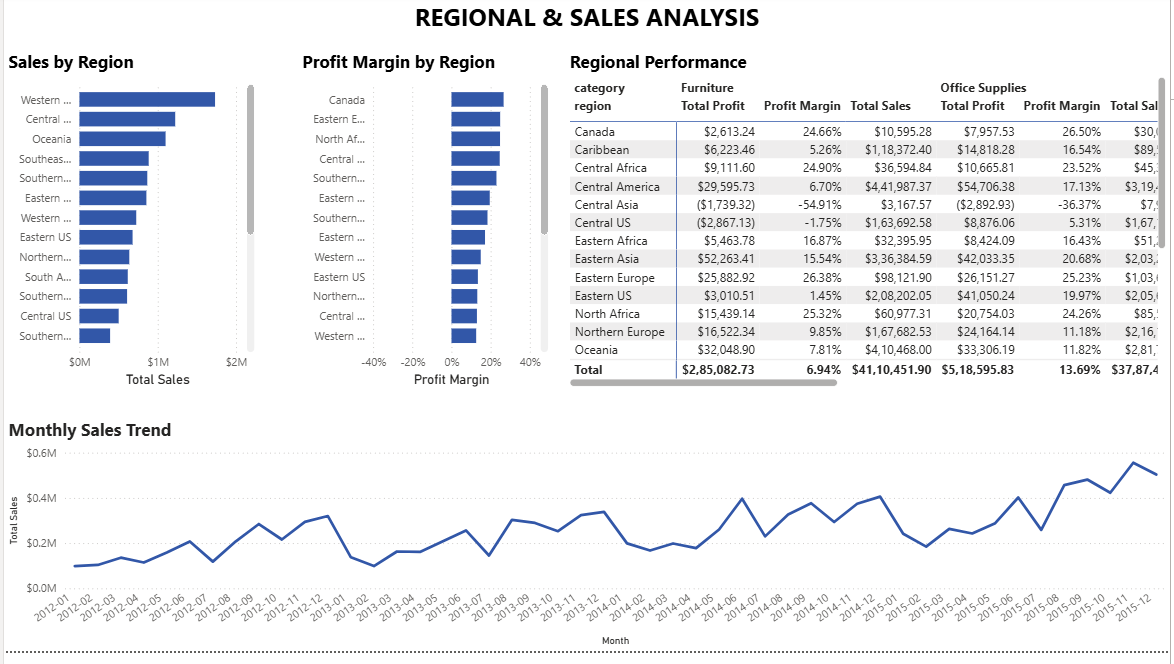

This screenshot's page, from the dashboard's own definition file:
{"tool":"powerbi","page":{"name":"Regional / Sales Analysis","canvas":[1280,720],"ordinal":1},"visuals":[{"type":"barChart","title":"Sales by Region","fields":{"Category":["retail_intelligence retail_sales.region"],"Y":["retail_intelligence retail_sales.Total Sales"]},"box":[0,60.4,279.9,374.6],"z":0},{"type":"barChart","title":"Profit Margin by Region","fields":{"Category":["retail_intelligence retail_sales.region"],"Y":["retail_intelligence retail_sales.Profit Margin"]},"box":[322.5,60.4,279.9,374.6],"z":1000},{"type":"pivotTable","title":"Regional Performance","fields":{"Rows":["retail_intelligence retail_sales.region"],"Columns":["retail_intelligence retail_sales.category"],"Values":["retail_intelligence retail_sales.Total Profit","retail_intelligence retail_sales.Profit Margin","retail_intelligence retail_sales.Total Sales"]},"box":[616.1,60.4,664.2,374.6],"z":2000},{"type":"lineChart","title":"Monthly Sales Trend","fields":{"Category":["DateTable.Year Month"],"Y":["retail_intelligence retail_sales.Total Sales"]},"box":[0,463.8,1280.3,256.6],"z":4000},{"type":"textbox","box":[0,0,1280.3,48],"z":4001}]}

Visuals, with their boxes in screenshot pixels (x1, y1, x2, y2), scaled from the page's 1280x720 canvas onto the 1174x664 screenshot:
"Sales by Region" barChart: select_region(0, 56, 257, 401)
"Profit Margin by Region" barChart: select_region(296, 56, 553, 401)
"Regional Performance" pivotTable: select_region(565, 56, 1173, 401)
"Monthly Sales Trend" lineChart: select_region(0, 428, 1173, 663)
textbox: select_region(0, 0, 1173, 44)
